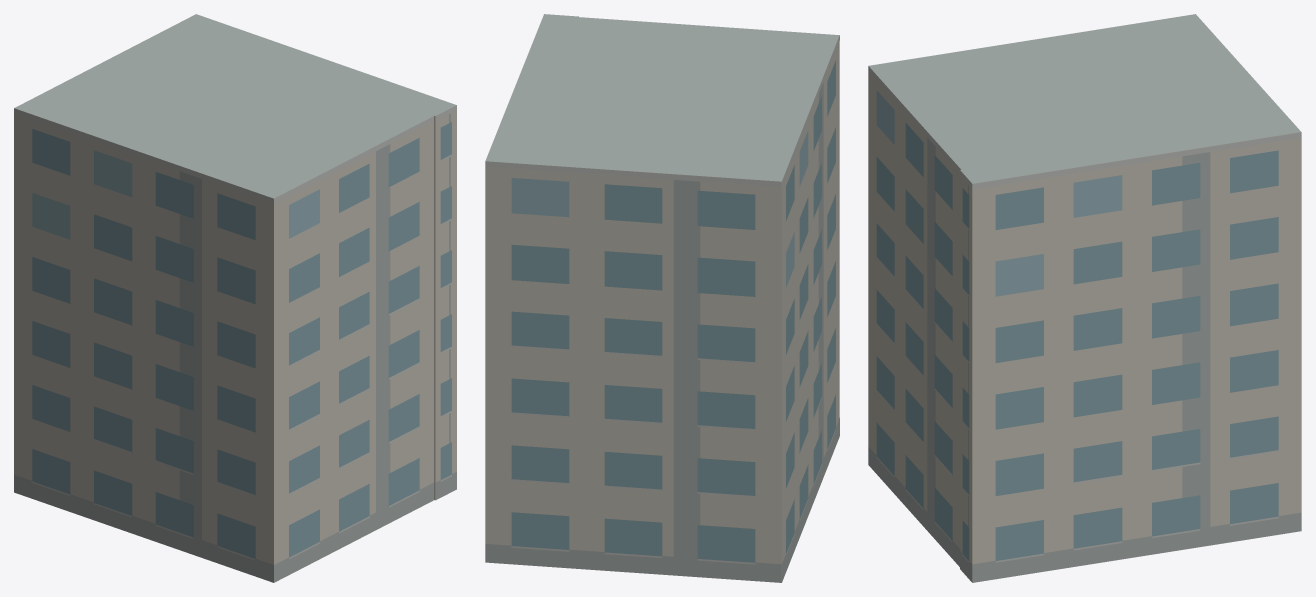
Rendered from survey-upis-32860369.glb.
3 views of the same model, side by side, from view 1: azimuth 30°, elevation 25°; view 2: azimuth 150°, elevation 25°; view 3: azimuth 270°, elevation 25° (orthographic). The views are drawn at different scales.
Parts seen in each view (by area): view 1: survey-upis-32860369.tmp; view 2: survey-upis-32860369.tmp; view 3: survey-upis-32860369.tmp.
Boxes of the visible parts, x1,y1,x2,y2 form: survey-upis-32860369.tmp: (14, 14, 456, 582); survey-upis-32860369.tmp: (485, 14, 839, 582); survey-upis-32860369.tmp: (868, 14, 1301, 582).
Bounding box in the file's own units: 16.03 × 17.55 × 17.28.
